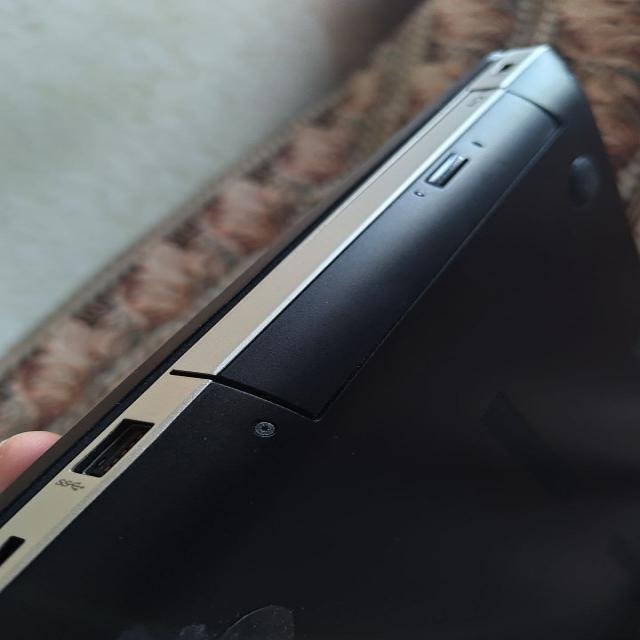lock: (151, 62, 587, 441)
